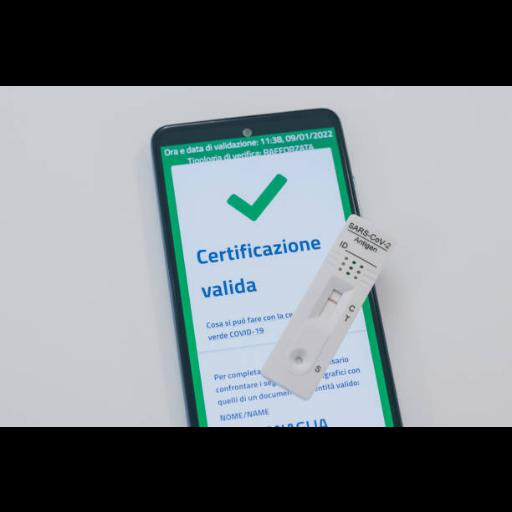Neg: (260, 212, 399, 401)
